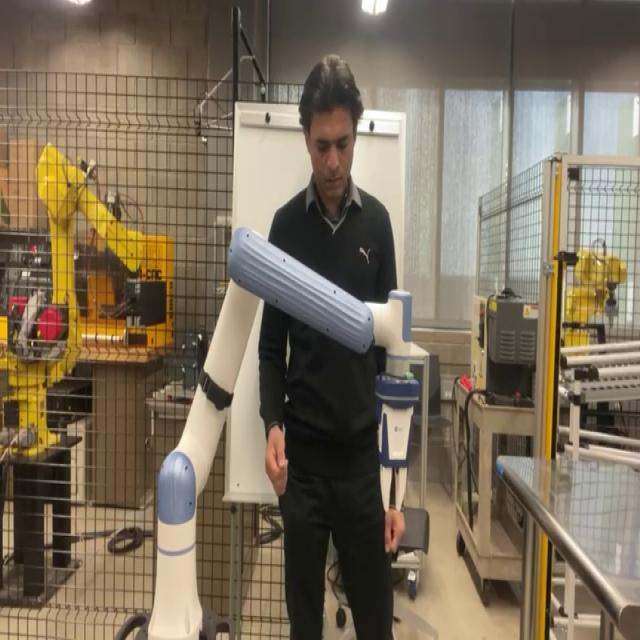human: (257, 53, 406, 638)
